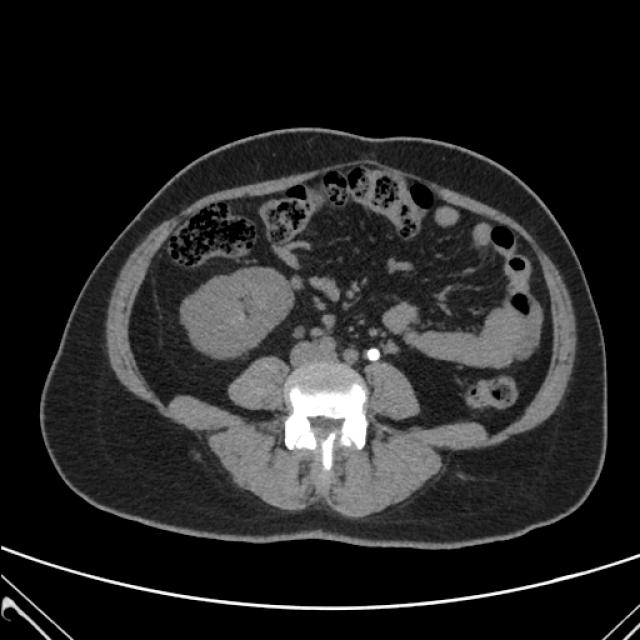kidney: (171, 260, 301, 369), (362, 285, 423, 362)
stone: (366, 331, 384, 366)
